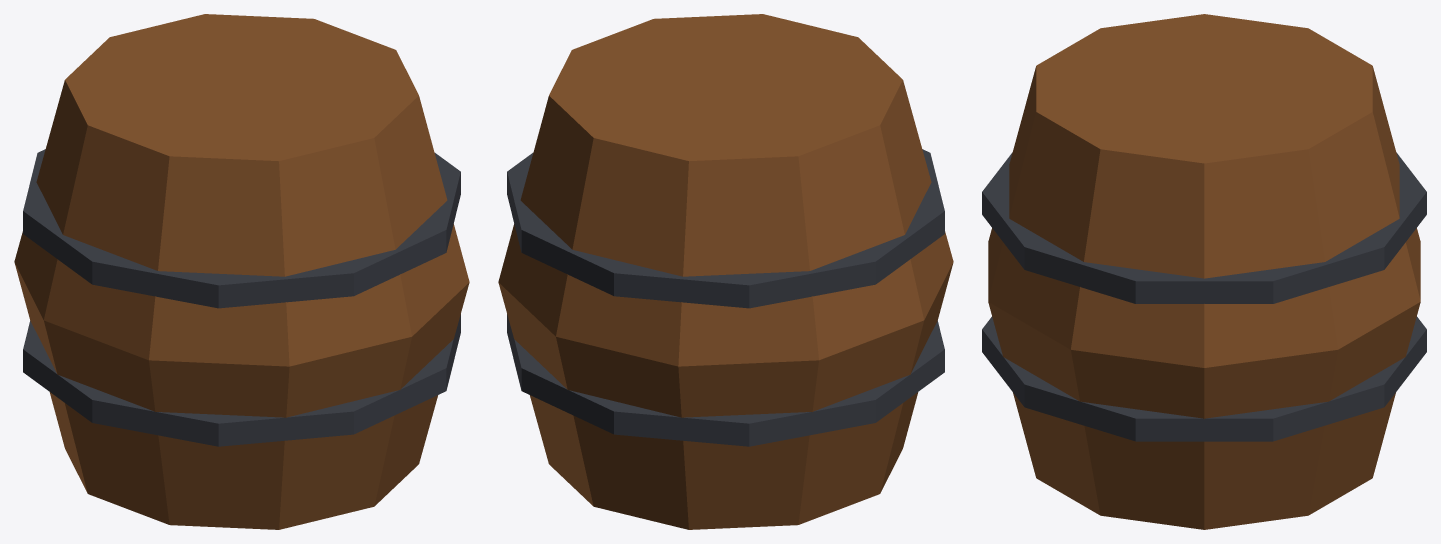
Rendered from wine_barrel.glb.
3 renders of one model, left to right at view 1: azimuth 30°, elevation 25°; view 2: azimuth 150°, elevation 25°; view 3: azimuth 270°, elevation 25°, orthographic.
Parts seen in each view (by area): view 1: wine_barrel; view 2: wine_barrel; view 3: wine_barrel.
Boxes of the visible parts, x1,y1,x2,y2 form: wine_barrel: (14,14,469,529); wine_barrel: (498,14,953,529); wine_barrel: (982,14,1426,529).
Bounding box in the file's own units: 0.9 × 0.8 × 0.88.
